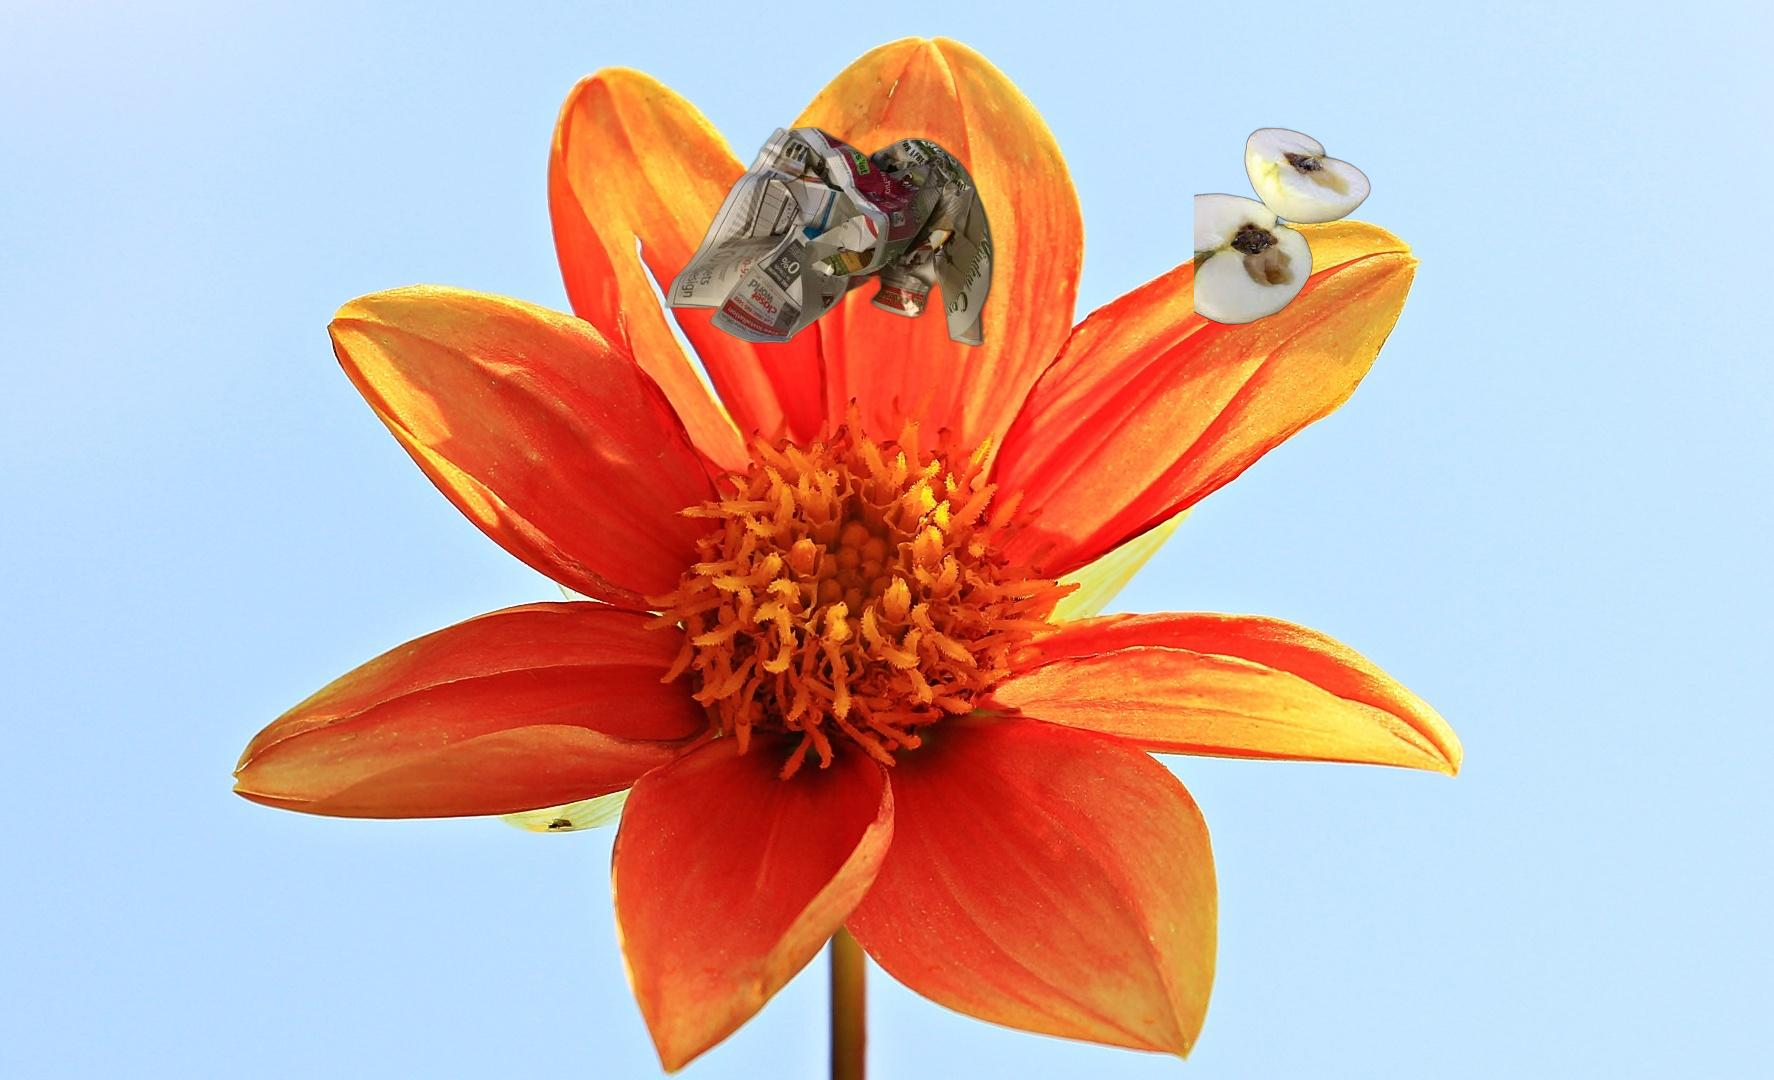biological: (1194, 125, 1374, 327)
paper: (661, 124, 999, 349)
